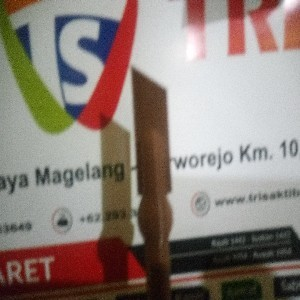cutter: (130, 65, 174, 300)
